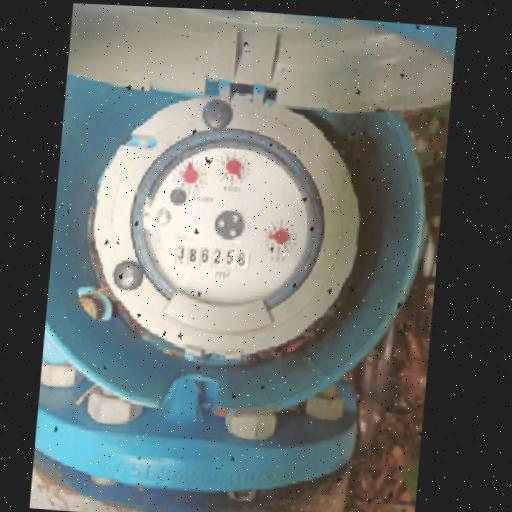2: (211, 248, 224, 266)
3: (175, 246, 189, 263)
5: (224, 251, 238, 268)
6: (236, 252, 249, 269), (200, 248, 212, 266)
8: (187, 246, 200, 265)
border_water_meter_number: (174, 244, 252, 270)
